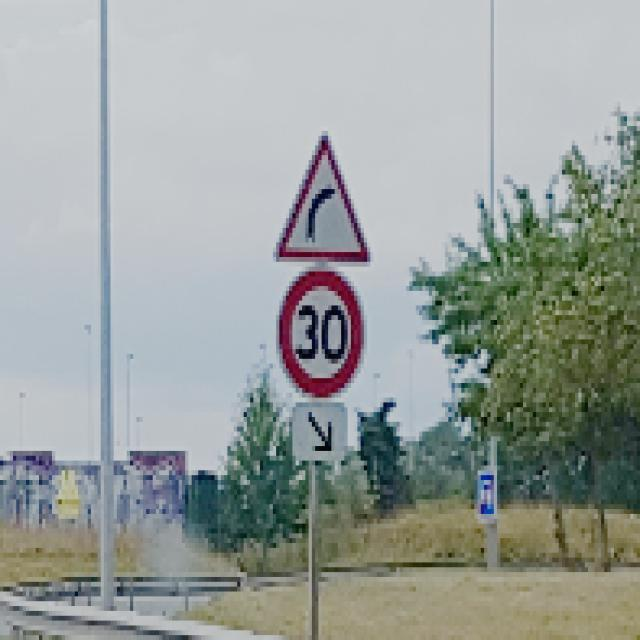speed_30: (272, 264, 369, 401)
